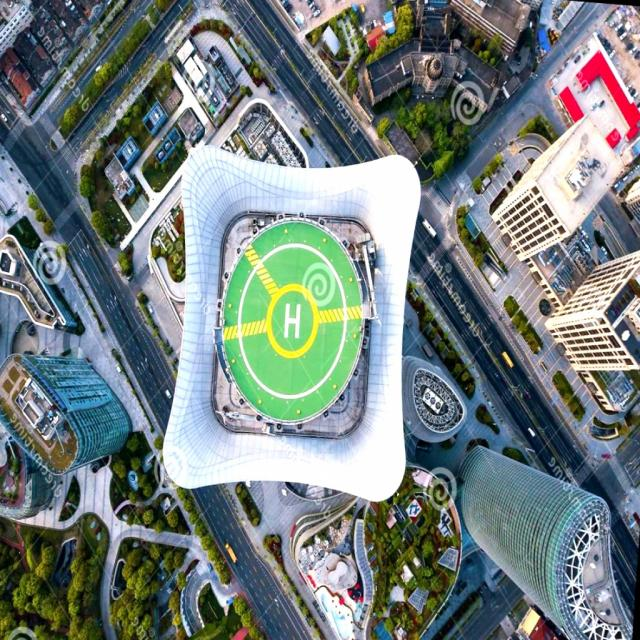helipad: (261, 278, 323, 360)
